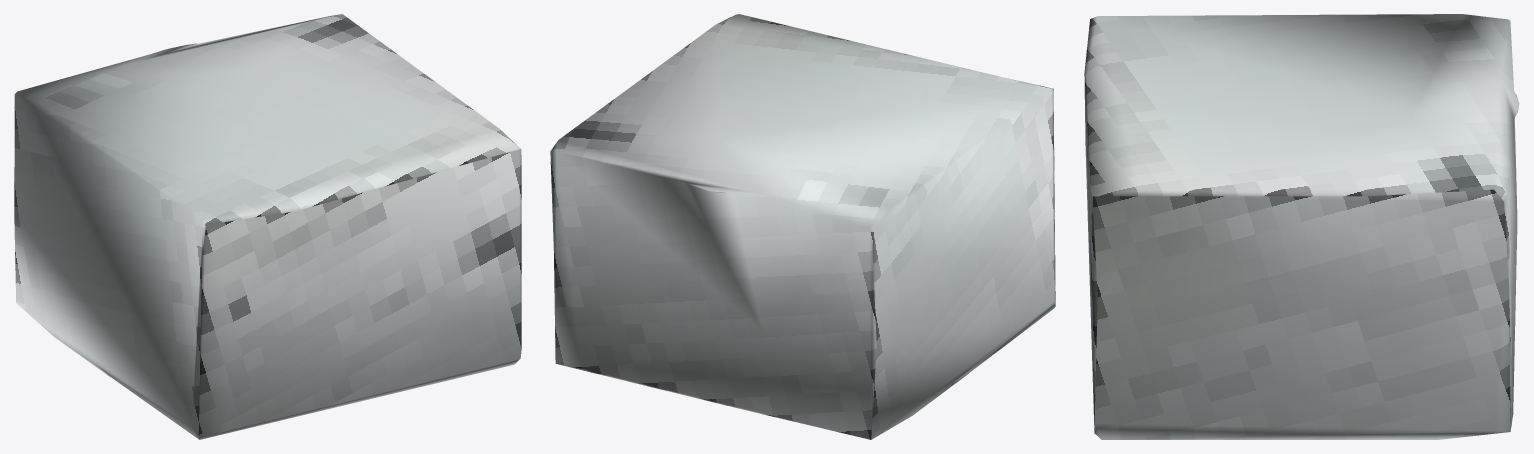
The model's file is Perricone_MD_Face_Finishing_Moisturizer_4_oz-low.glb.
3 views of the same model, side by side, from view 1: azimuth 30°, elevation 25°; view 2: azimuth 150°, elevation 25°; view 3: azimuth 270°, elevation 25° (orthographic). The views are drawn at different scales.
Visible parts, largest first — view 1: Perricone_MD_Face_Finishing_Moisturizer_4_oz; view 2: Perricone_MD_Face_Finishing_Moisturizer_4_oz; view 3: Perricone_MD_Face_Finishing_Moisturizer_4_oz.
Boxes of the visible parts, bbox=[...] form: Perricone_MD_Face_Finishing_Moisturizer_4_oz: bbox=[14, 14, 521, 439]; Perricone_MD_Face_Finishing_Moisturizer_4_oz: bbox=[550, 14, 1055, 439]; Perricone_MD_Face_Finishing_Moisturizer_4_oz: bbox=[1084, 14, 1519, 439].
Size of the model in its own units: 0.0774 by 0.0511 by 0.0783.
Materials: 1 (1 with a texture image).
